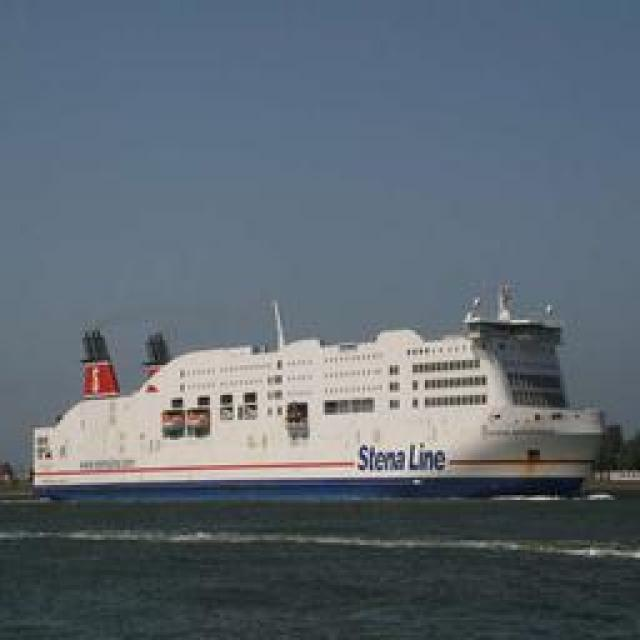CIV_Ship: (30, 288, 602, 500)
